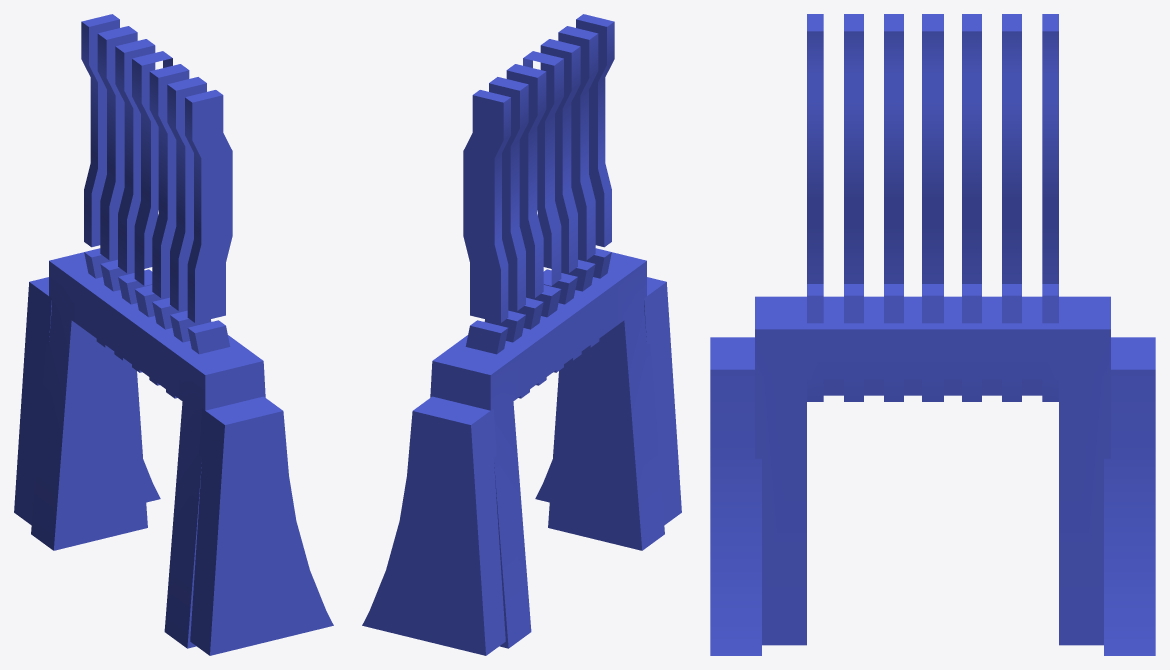
The model's file is ExitGate.fbx.
3 views of the same model, side by side, from view 1: azimuth 30°, elevation 25°; view 2: azimuth 150°, elevation 25°; view 3: azimuth 270°, elevation 25° (orthographic). The views are drawn at different scales.
Visible parts, largest first — view 1: Cube.003; view 2: Cube.003; view 3: Cube.003.
Boxes of the visible parts, bbox=[...] form: Cube.003: bbox=[14, 14, 333, 655]; Cube.003: bbox=[362, 14, 681, 655]; Cube.003: bbox=[710, 14, 1155, 655].
Size of the model in its own units: 2.27 by 8.92 by 6.06.
